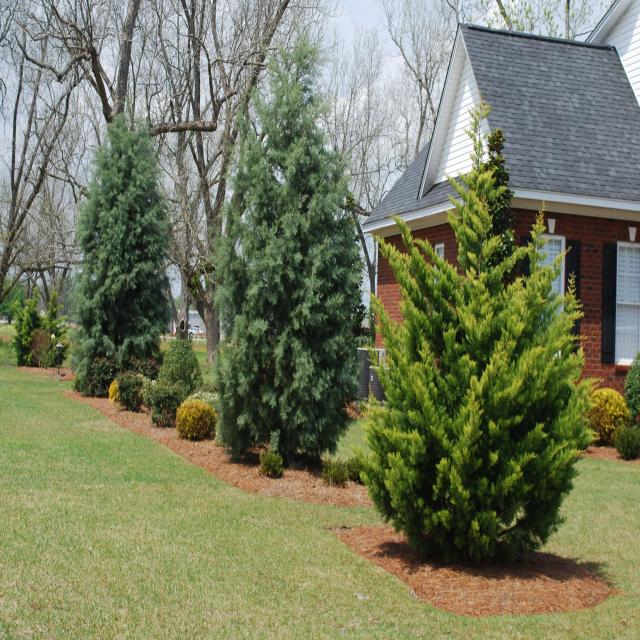foliage: (322, 97, 631, 561), (214, 66, 363, 461), (70, 122, 172, 397), (153, 337, 204, 402), (175, 398, 217, 443)
